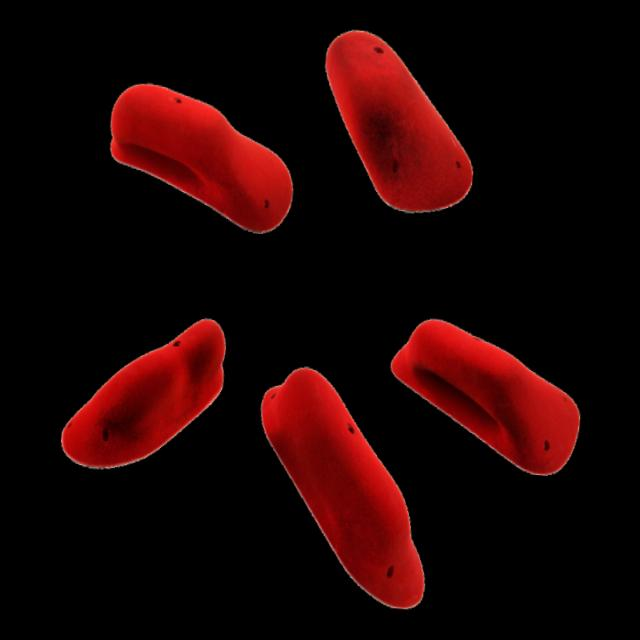Hold: (382, 301, 591, 485), (307, 34, 492, 218), (97, 76, 299, 244), (58, 294, 232, 486)
